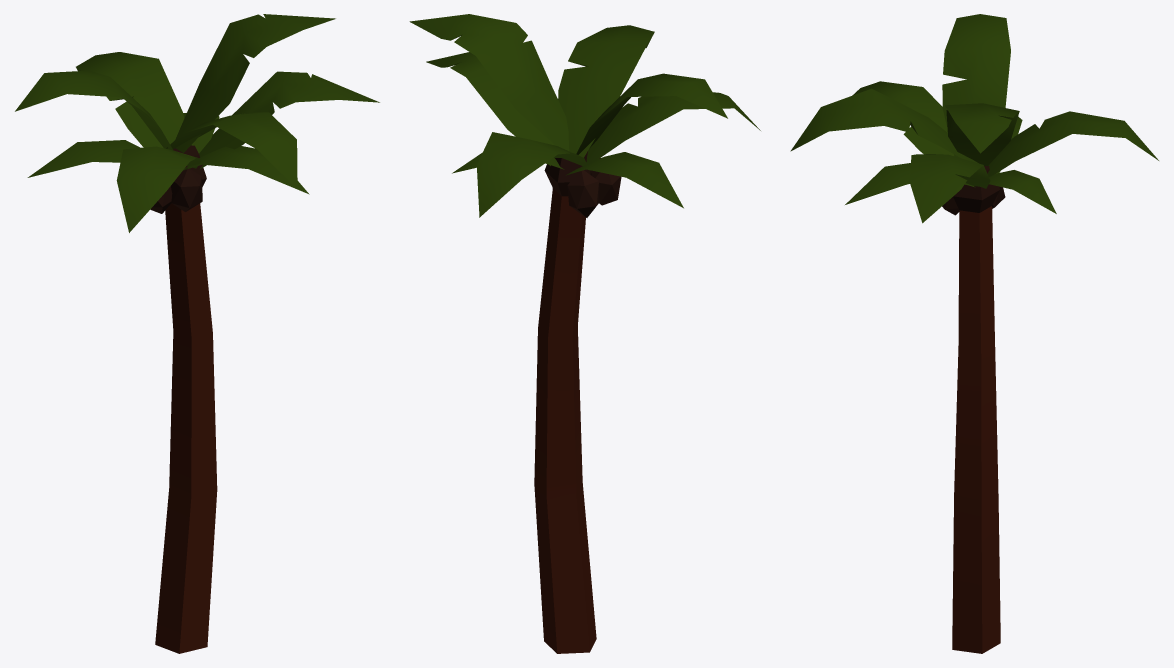
The model's file is PalmTree1.fbx.glb.
The picture shows the model from 3 angles, left to right: view 1: azimuth 30°, elevation 25°; view 2: azimuth 150°, elevation 25°; view 3: azimuth 270°, elevation 25°; orthographic projection. The views are drawn at different scales.
Parts seen in each view (by area): view 1: PalmTree1; view 2: PalmTree1; view 3: PalmTree1.
Boxes of the visible parts, left/top/right/bottom form: PalmTree1: left=15, top=14, right=379, bottom=653; PalmTree1: left=409, top=14, right=760, bottom=653; PalmTree1: left=790, top=14, right=1158, bottom=653.
Bounding box in the file's own units: 191 × 324 × 189.
